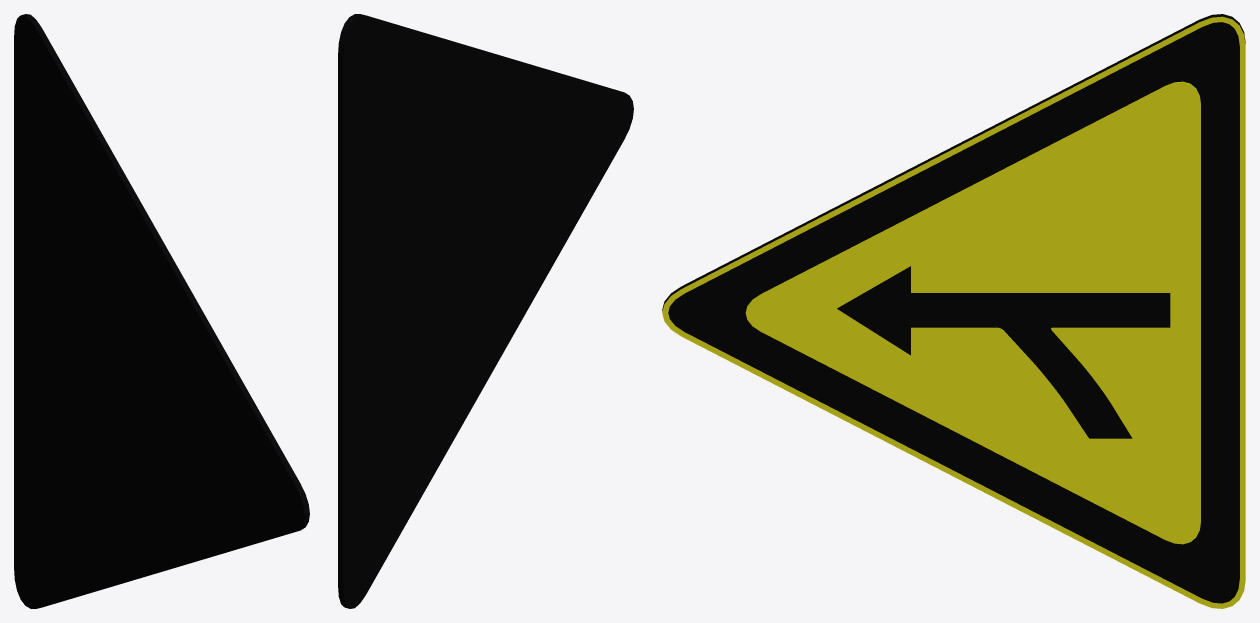
The model's file is 注意左侧合流.gltf.
3 views of the same model, side by side, from view 1: azimuth 30°, elevation 25°; view 2: azimuth 150°, elevation 25°; view 3: azimuth 270°, elevation 25° (orthographic).
Parts seen in each view (by area): view 1: 平面.001; view 2: 平面.001; view 3: 平面.003, 平面.001, Arrow.
Part boxes in pixels (box(x1,y1,x2,y2)): 平面.001: box(14, 14, 309, 608); 平面.001: box(338, 14, 633, 608); 平面.003: box(745, 81, 1200, 544); 平面.001: box(662, 14, 1245, 608); Arrow: box(837, 266, 1170, 438).
Size of the model in its own units: 0.011 by 0.9304 by 0.8307.
